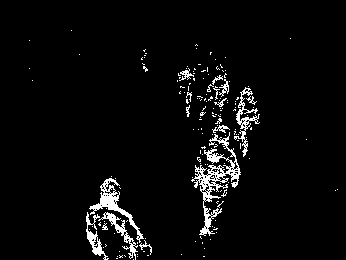person: (86, 175, 151, 260), (197, 125, 240, 238), (232, 85, 264, 160)
